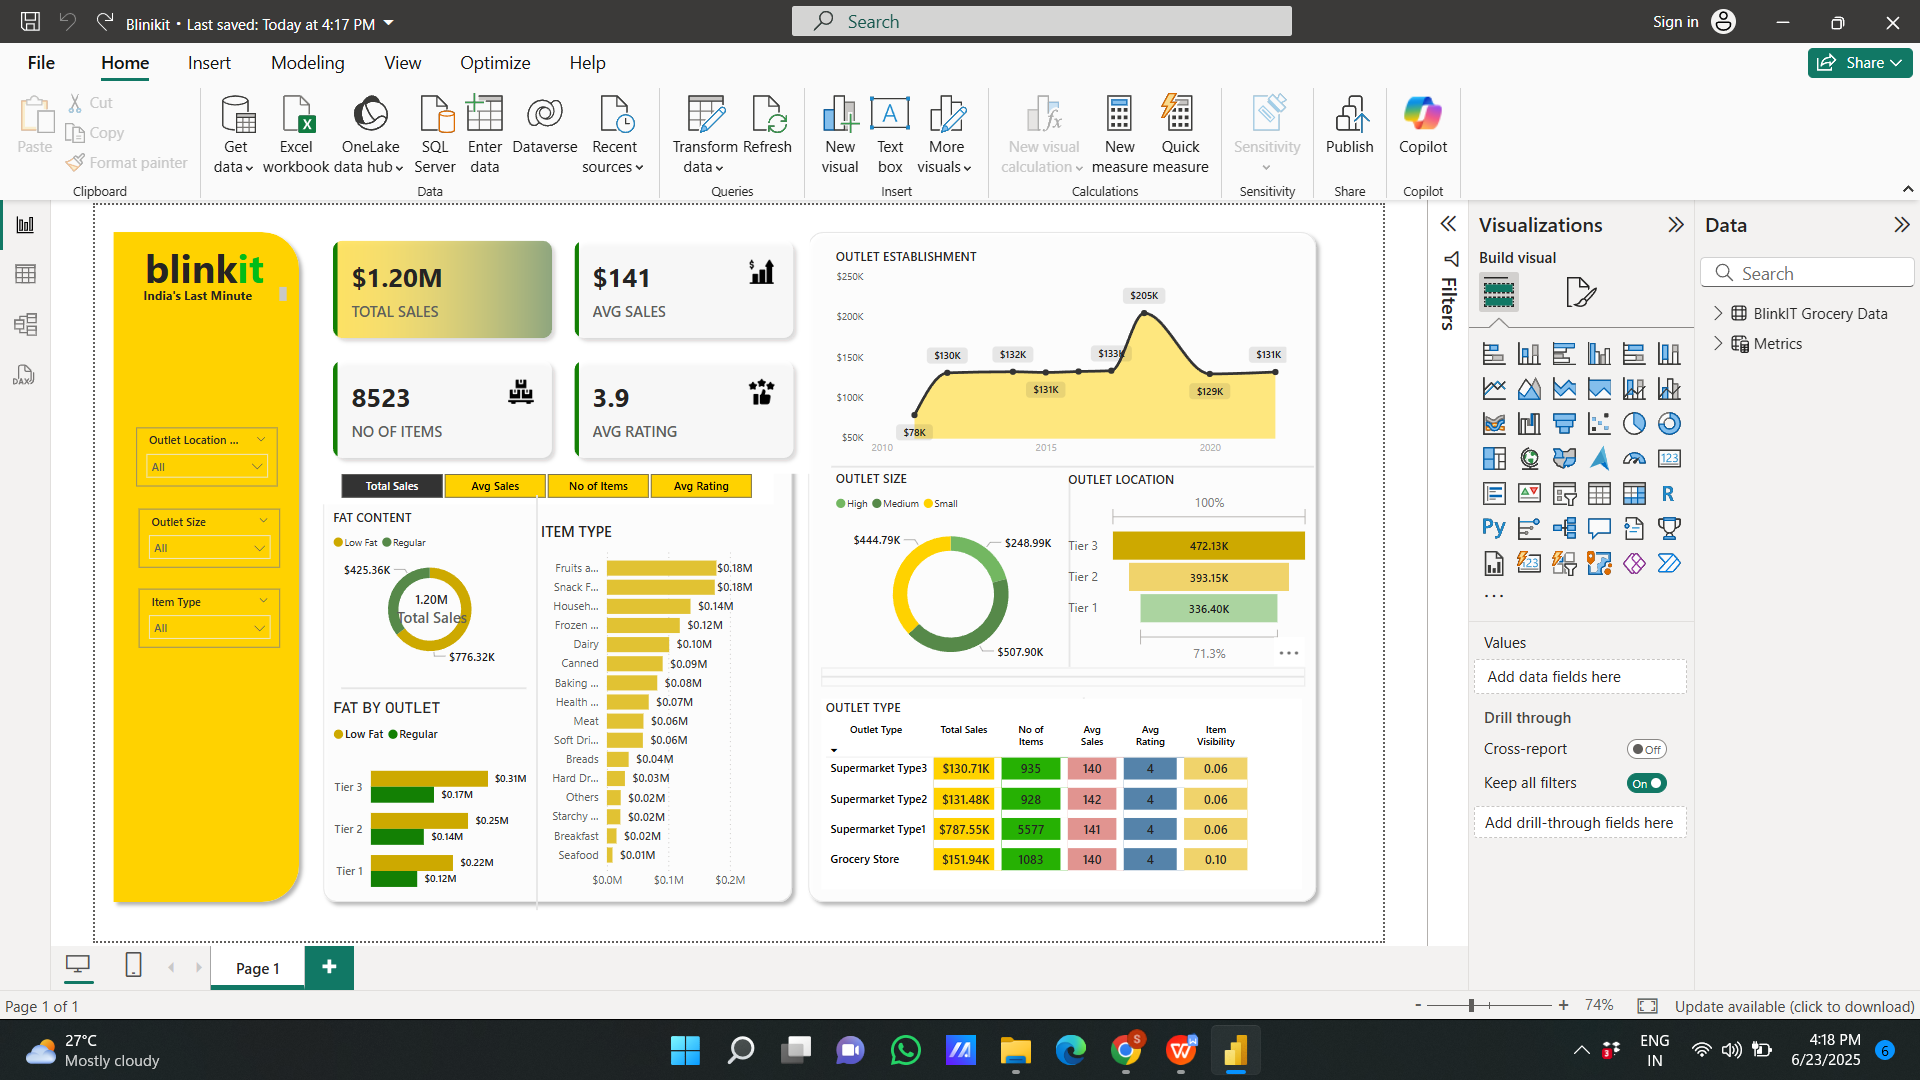

The page's visual inventory and layout, read from the dashboard file:
{"tool":"powerbi","page":{"name":"Page 1","canvas":[1400,800],"ordinal":0},"visuals":[{"type":"shape","box":[11.2,20,220,746.2],"z":0},{"type":"textbox","box":[47.6,84.2,165.8,27.2],"z":1000},{"type":"textbox","box":[26.2,33.8,191.2,77.5],"z":2000},{"type":"cardVisual","fields":{"Data":["BlinkIT Grocery Data.Total Sales","BlinkIT Grocery Data.Avg Sales","BlinkIT Grocery Data.No of Items","BlinkIT Grocery Data.Avg Rating"]},"box":[231.2,11.2,535,270],"z":3000},{"type":"shape","box":[238.8,267.5,527.5,498.8],"z":4000},{"type":"donutChart","title":"FAT CONTENT","fields":{"Y":["BlinkIT Grocery Data.Total Sales"],"Category":["BlinkIT Grocery Data.Item Fat Content"]},"box":[253.8,330,220,173.8],"z":5000},{"type":"slicer","fields":{"Values":["Metrics.Metrics"]},"box":[241.2,285,496.2,40],"z":6000},{"type":"cardVisual","fields":{"Data":["BlinkIT Grocery Data.Total Sales"]},"box":[307.5,401.2,118.8,76.2],"z":7000},{"type":"clusteredBarChart","title":"FAT BY OUTLET","fields":{"Y":["BlinkIT Grocery Data.Total Sales"],"Category":["BlinkIT Grocery Data.Outlet Location Type"],"Series":["BlinkIT Grocery Data.Item Fat Content"]},"box":[253.8,536.2,220,230],"z":8000},{"type":"shape","box":[267.5,518.8,201.2,12.5],"z":9000},{"type":"shape","box":[473.8,315,12.5,451.2],"z":10000},{"type":"barChart","title":"ITEM TYPE","fields":{"Y":["BlinkIT Grocery Data.Total Sales"],"Category":["BlinkIT Grocery Data.Item Type"]},"box":[480,343.8,257.5,408.8],"z":11000},{"type":"shape","box":[766.2,20,570,746.2],"z":12000},{"type":"lineChart","title":"OUTLET ESTABLISHMENT","fields":{"Y":["BlinkIT Grocery Data.Total Sales"],"Category":["BlinkIT Grocery Data.Outlet Establishment Year"]},"box":[800,46.2,500,235],"z":13000},{"type":"shape","box":[800,275,525,20],"z":14000},{"type":"donutChart","title":"OUTLET SIZE","fields":{"Series":["BlinkIT Grocery Data.Outlet Size"],"Y":["BlinkIT Grocery Data.Total Sales"]},"box":[800,287.5,260,225],"z":15000},{"type":"shape","box":[973.8,535,201.2,12.5],"z":16000},{"type":"shape","box":[1052.5,295,12.5,207.5],"z":17000},{"type":"funnel","title":"OUTLET LOCATION","fields":{"Category":["BlinkIT Grocery Data.Outlet Location Type"],"Y":["Sum(BlinkIT Grocery Data.Sales)"]},"box":[1052.5,290,272.5,212.5],"z":18000},{"type":"shape","box":[790,502.5,525,20],"z":19000},{"type":"pivotTable","title":"OUTLET TYPE","fields":{"Rows":["BlinkIT Grocery Data.Outlet Type"],"Values":["BlinkIT Grocery Data.Total Sales","BlinkIT Grocery Data.No of Items","BlinkIT Grocery Data.Avg Sales","BlinkIT Grocery Data.Avg Rating","Avg(BlinkIT Grocery Data.Item Visibility)"]},"box":[788.8,536.2,522.5,207.5],"z":20000},{"type":"slicer","fields":{"Values":["BlinkIT Grocery Data.Outlet Location Type"]},"box":[45,242.5,153.8,63.8],"z":21000},{"type":"cardVisual","fields":{"Data":["BlinkIT Grocery Data.Total Sales","BlinkIT Grocery Data.Avg Sales","BlinkIT Grocery Data.No of Items","BlinkIT Grocery Data.Avg Rating"]},"box":[241.2,21.2,535,270],"z":22000},{"type":"slicer","fields":{"Values":["BlinkIT Grocery Data.Outlet Size"]},"box":[47.5,330,153.8,63.8],"z":23000},{"type":"slicer","fields":{"Values":["BlinkIT Grocery Data.Item Type"]},"box":[47.5,417.5,153.8,63.8],"z":24000}]}

Visuals, with their boxes on the page's 1400x800 design canvas (x1, y1, x2, y2). These are canvas units, not pixel positions in the 1920x1080 screenshot, which may show the page scaled, cropped or inside an application window:
shape: bbox=[11, 20, 231, 766]
textbox: bbox=[48, 84, 213, 111]
textbox: bbox=[26, 34, 217, 111]
cardVisual - BlinkIT Grocery Data.Total Sales x BlinkIT Grocery Data.Avg Sales: bbox=[231, 11, 766, 281]
shape: bbox=[239, 268, 766, 766]
"FAT CONTENT" donutChart: bbox=[254, 330, 474, 504]
slicer - Metrics.Metrics: bbox=[241, 285, 737, 325]
cardVisual - BlinkIT Grocery Data.Total Sales: bbox=[308, 401, 426, 477]
"FAT BY OUTLET" clusteredBarChart: bbox=[254, 536, 474, 766]
shape: bbox=[268, 519, 469, 531]
shape: bbox=[474, 315, 486, 766]
"ITEM TYPE" barChart: bbox=[480, 344, 738, 753]
shape: bbox=[766, 20, 1336, 766]
"OUTLET ESTABLISHMENT" lineChart: bbox=[800, 46, 1300, 281]
shape: bbox=[800, 275, 1325, 295]
"OUTLET SIZE" donutChart: bbox=[800, 288, 1060, 512]
shape: bbox=[974, 535, 1175, 548]
shape: bbox=[1052, 295, 1065, 502]
"OUTLET LOCATION" funnel: bbox=[1052, 290, 1325, 502]
shape: bbox=[790, 502, 1315, 522]
"OUTLET TYPE" pivotTable: bbox=[789, 536, 1311, 744]
slicer - BlinkIT Grocery Data.Outlet Location Type: bbox=[45, 242, 199, 306]
cardVisual - BlinkIT Grocery Data.Total Sales x BlinkIT Grocery Data.Avg Sales: bbox=[241, 21, 776, 291]
slicer - BlinkIT Grocery Data.Outlet Size: bbox=[48, 330, 201, 394]
slicer - BlinkIT Grocery Data.Item Type: bbox=[48, 418, 201, 481]
